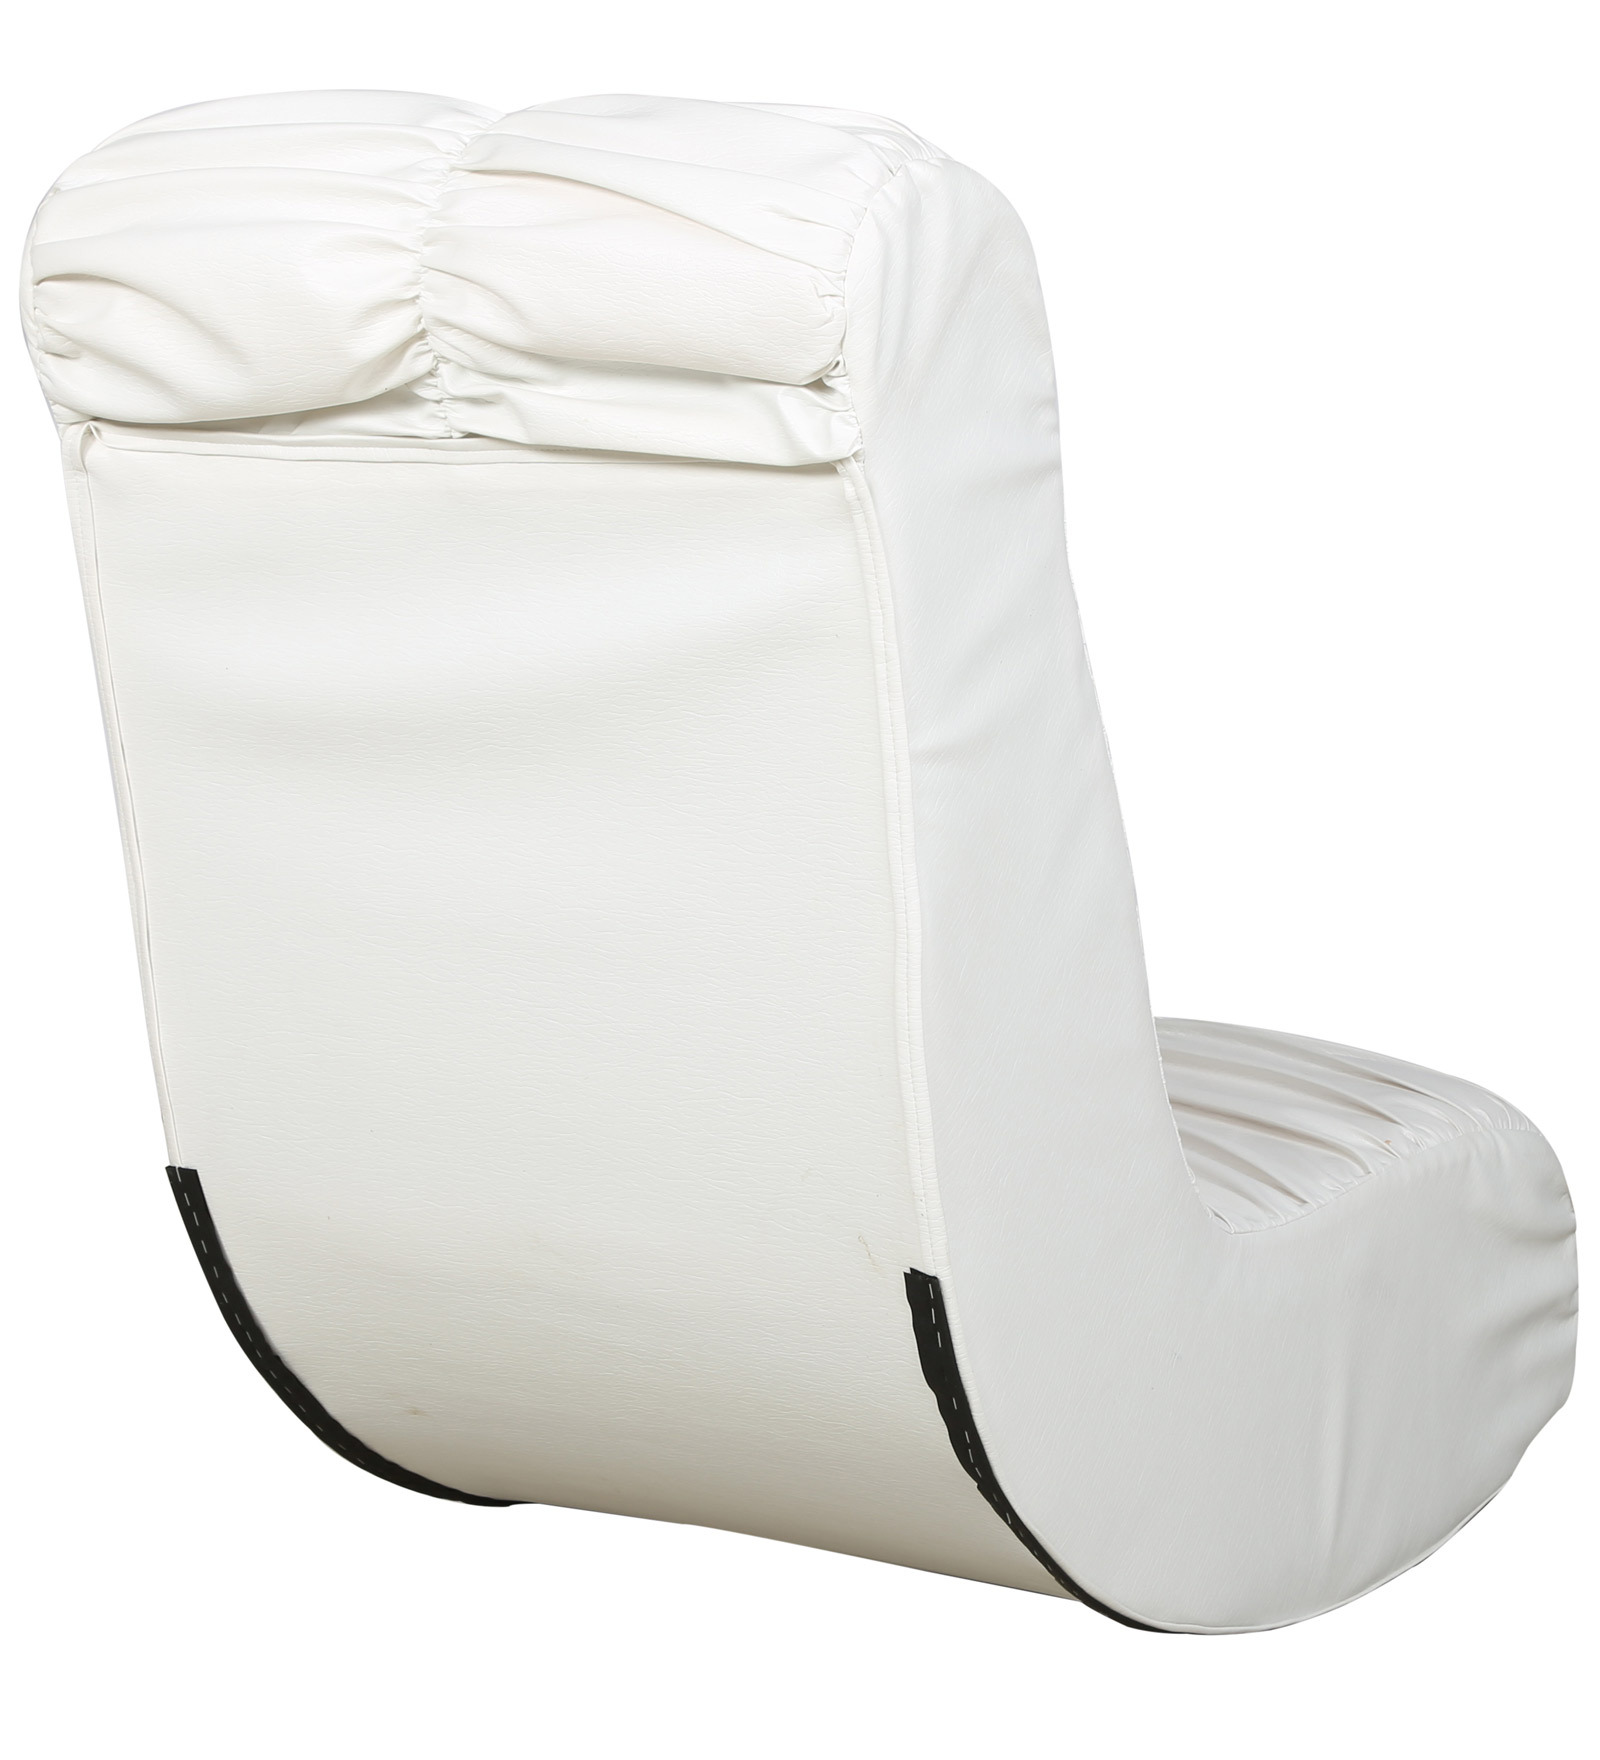Daisy Rocking Chair in White Colour by Parin: (17, 66, 1600, 1640)
